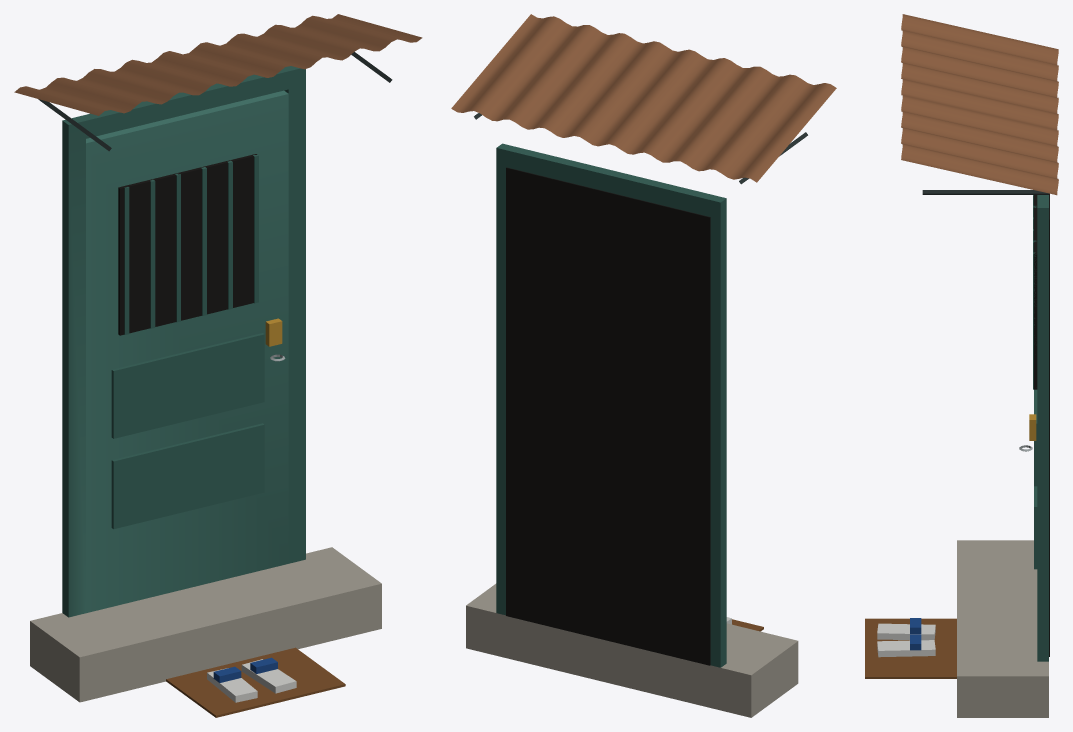
Rendered from cua_sau.glb.
The picture shows the model from 3 angles, left to right: view 1: azimuth 30°, elevation 25°; view 2: azimuth 150°, elevation 25°; view 3: azimuth 270°, elevation 25°; orthographic projection. The views are drawn at different scales.
Parts seen in each view (by area): view 1: cua_sau; view 2: cua_sau; view 3: cua_sau.
Part boxes in pixels (<box>): cua_sau: <box>14,14,422,717</box>; cua_sau: <box>451,14,836,717</box>; cua_sau: <box>865,14,1058,717</box>.
Size of the model in its own units: 1.5 by 2.72 by 0.8434.
